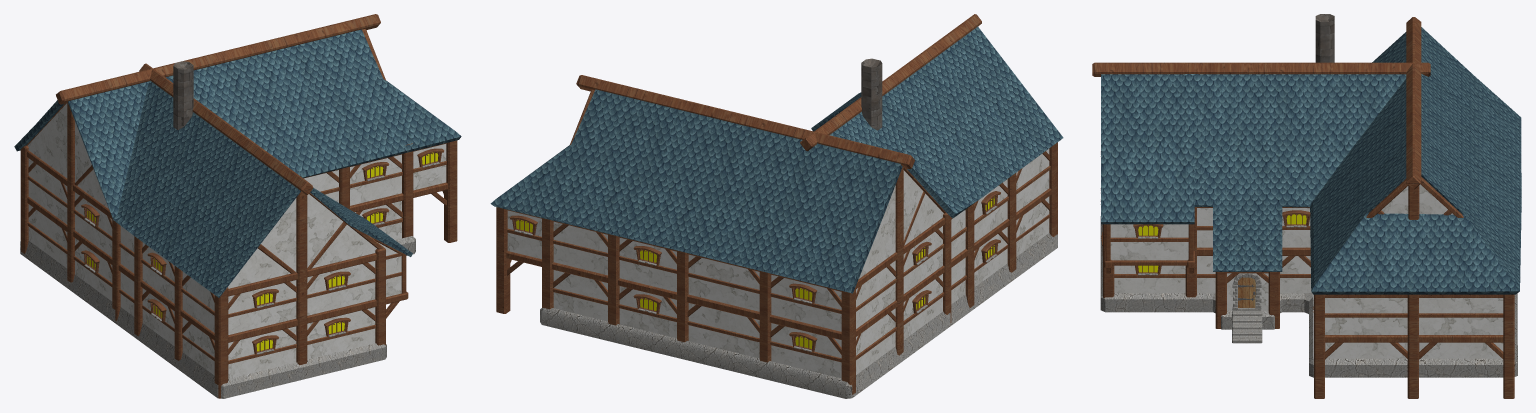
Rendered from House_Large.fbx.
3 renders of one model, left to right at view 1: azimuth 30°, elevation 25°; view 2: azimuth 150°, elevation 25°; view 3: azimuth 270°, elevation 25°, orthographic. The views are drawn at different scales.
Parts seen in each view (by area): view 1: House_Large; view 2: House_Large; view 3: House_Large.
Boxes of the visible parts, x1,y1,x2,y2 form: House_Large: [14, 14, 461, 398]; House_Large: [490, 14, 1063, 398]; House_Large: [1092, 14, 1521, 398].
Size of the model in its own units: 1117 by 718 by 1139.
